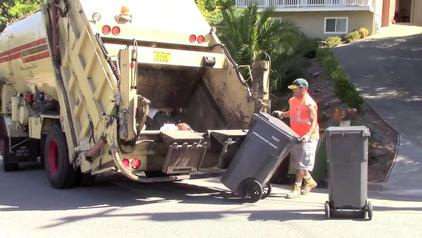walk: (284, 80, 321, 190)
